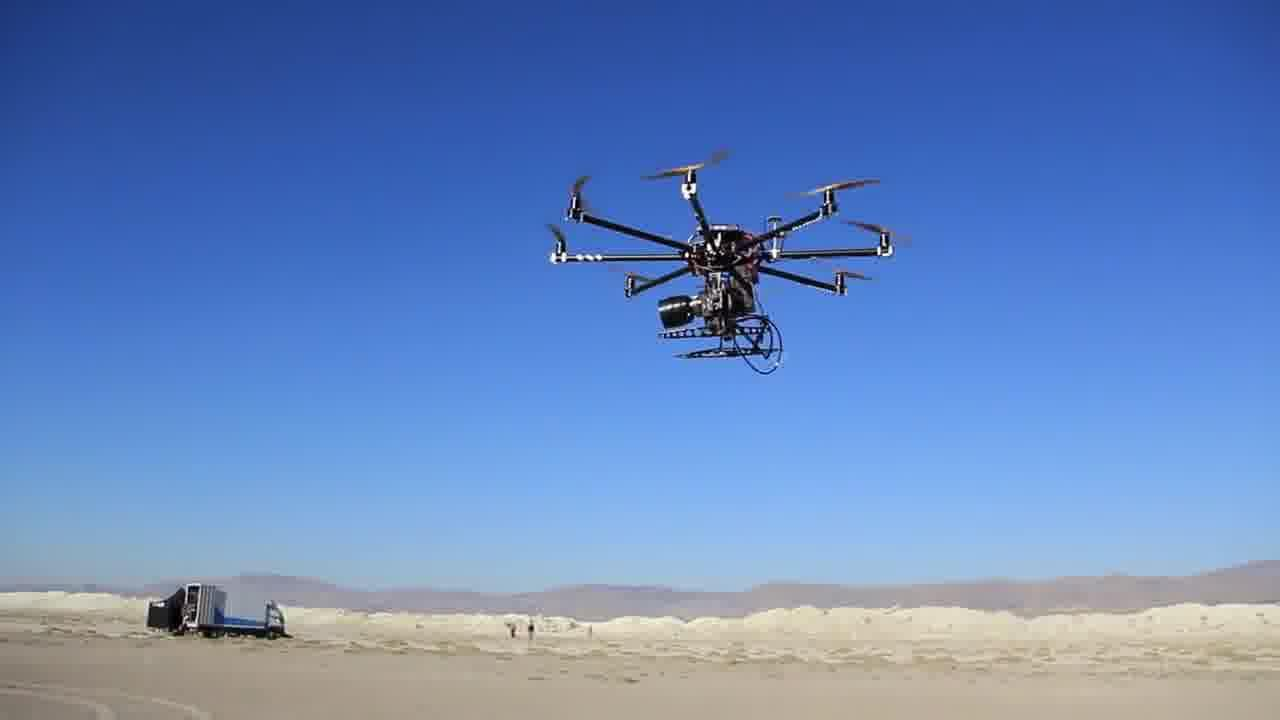drone: (531, 145, 857, 370)
